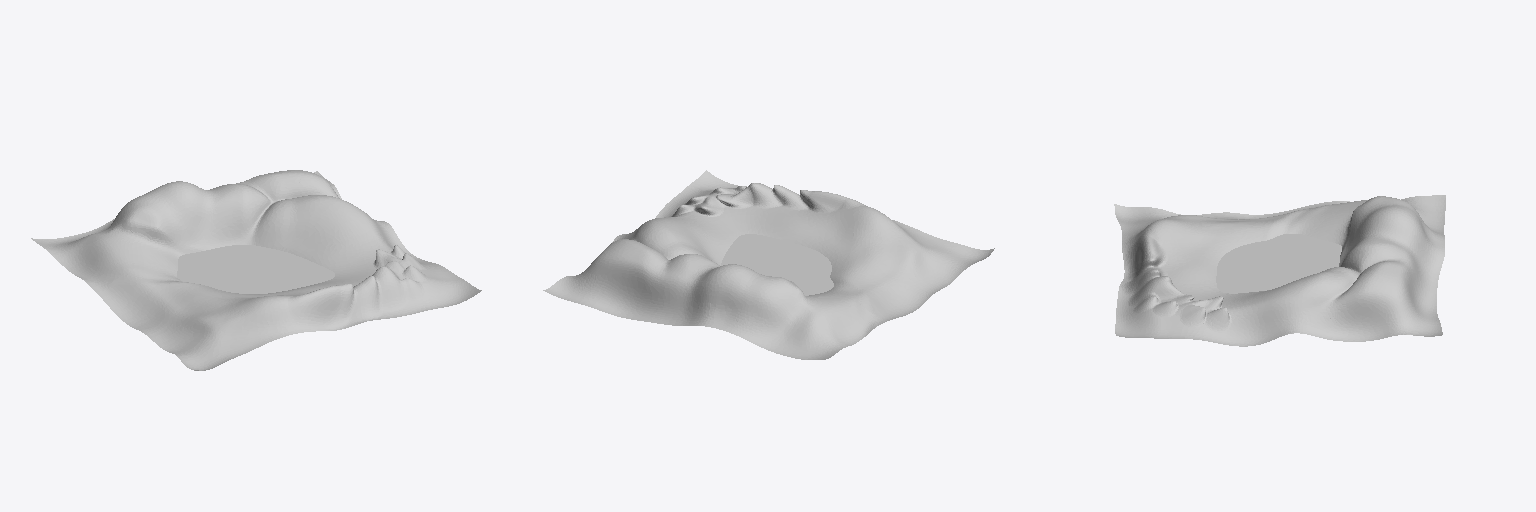
The model's file is Terrain2.obj.
The picture shows the model from 3 angles: view 1: azimuth 30°, elevation 25°; view 2: azimuth 150°, elevation 25°; view 3: azimuth 270°, elevation 25°; orthographic projection.
Parts seen in each view (by area): view 1: Grid, Grid.001; view 2: Grid, Grid.001; view 3: Grid, Grid.001.
Boxes of the visible parts, x1,y1,x2,y2 form: Grid: [31, 170, 481, 370]; Grid.001: [177, 245, 334, 293]; Grid: [543, 170, 994, 359]; Grid.001: [721, 234, 833, 295]; Grid: [1114, 195, 1445, 346]; Grid.001: [1216, 234, 1341, 293].
Bounding box in the file's own units: 101 × 23.64 × 100.